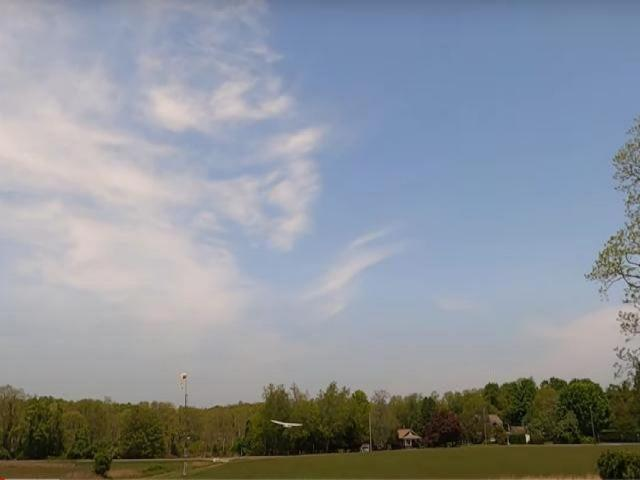iha: (271, 417, 302, 429)
